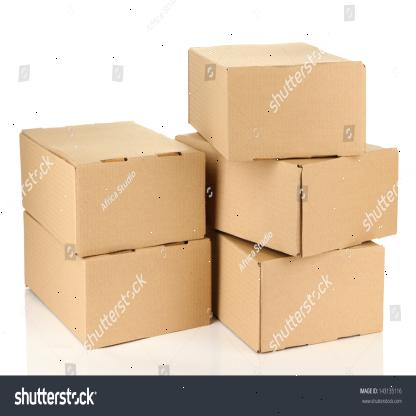box: (86, 238, 212, 350), (74, 152, 206, 256), (226, 62, 366, 158), (260, 246, 384, 351), (300, 147, 398, 254)
